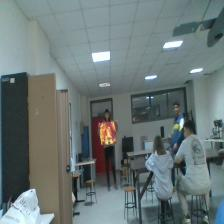fire-poster: (100, 122, 116, 145)
